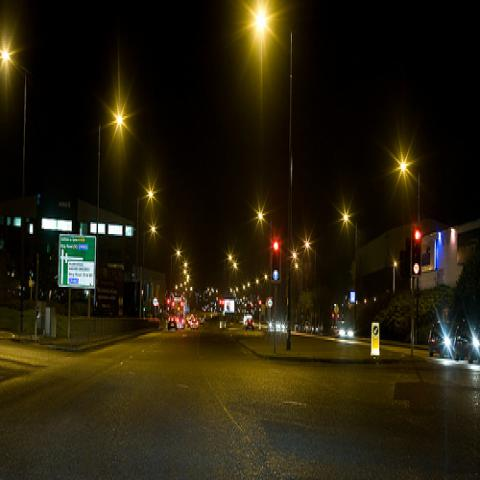car: (452, 319, 479, 364), (428, 322, 455, 359), (167, 314, 180, 331), (191, 318, 198, 330), (187, 319, 191, 328)
